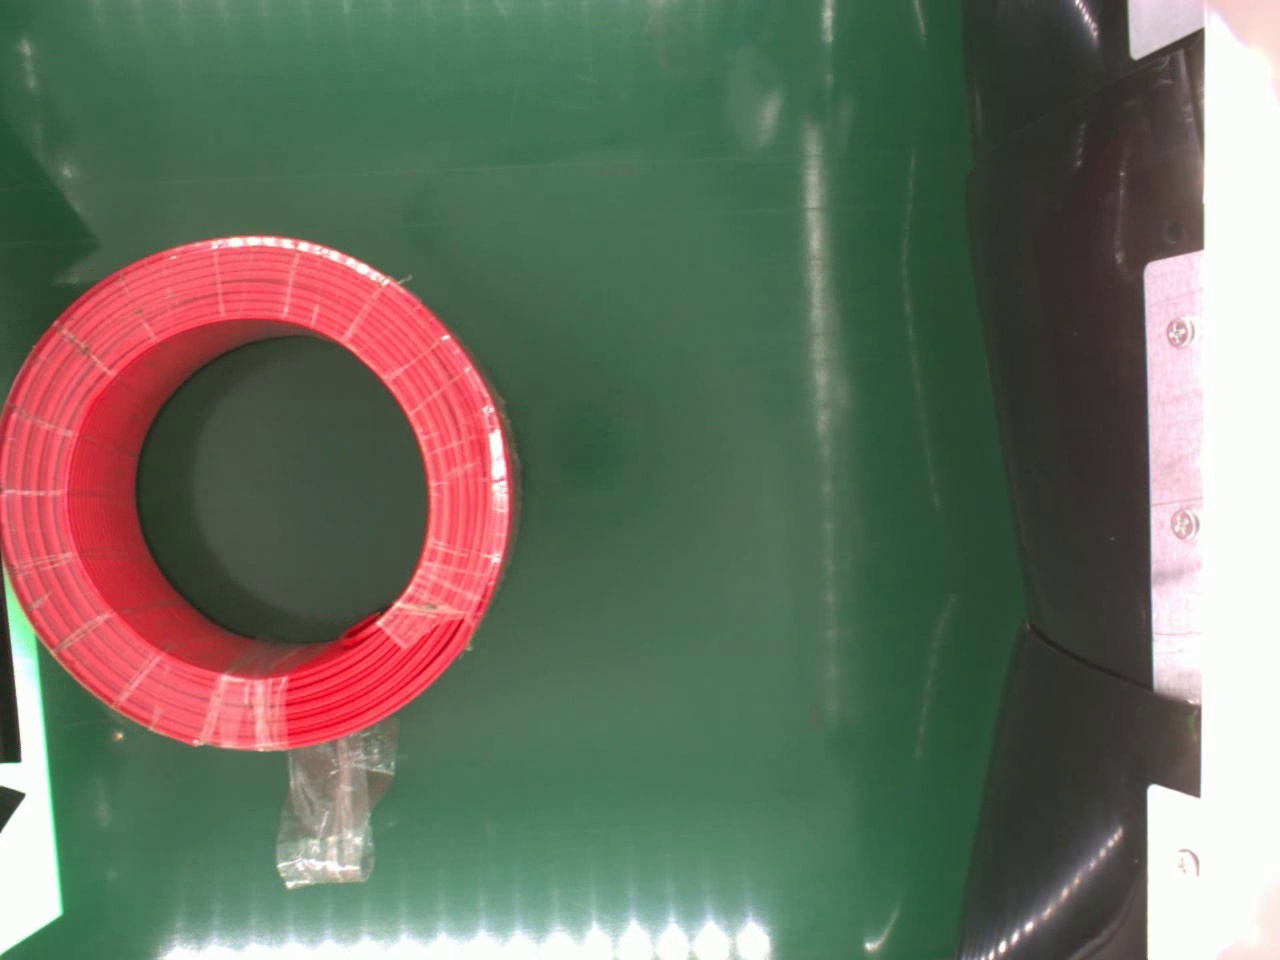red: (0, 233, 518, 754)
